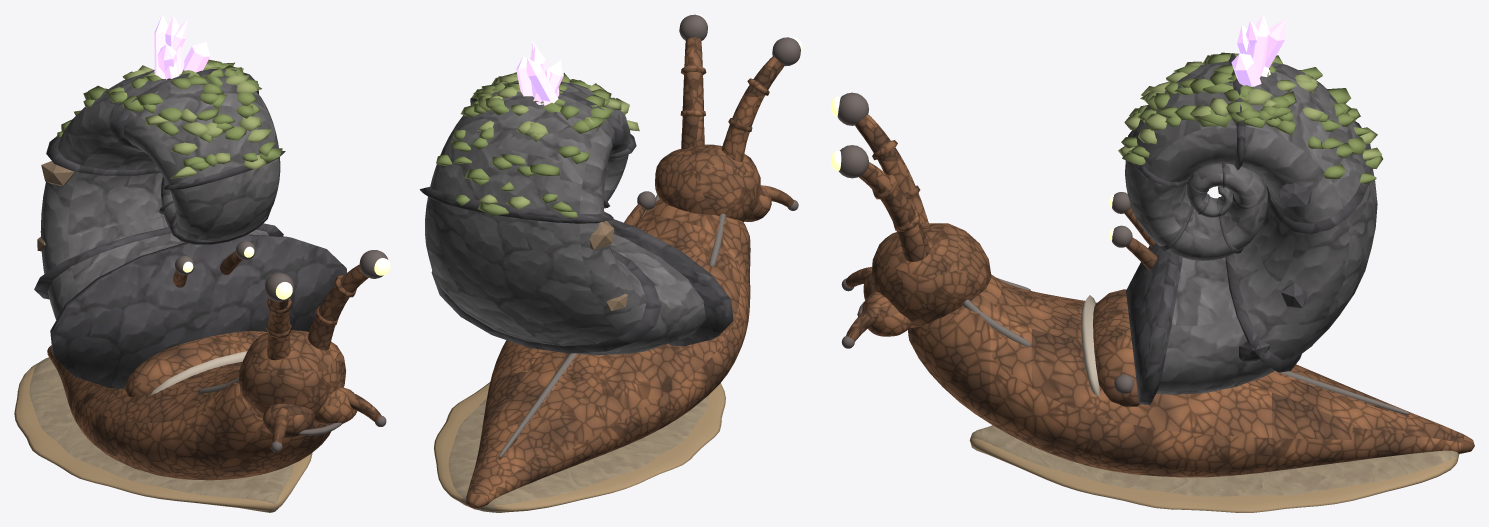
File: rock_snail_v2.glb
The picture shows the model from 3 angles, left to right: view 1: azimuth 30°, elevation 25°; view 2: azimuth 150°, elevation 25°; view 3: azimuth 270°, elevation 25°; orthographic projection. The views are drawn at different scales.
Parts seen in each view (by area): view 1: body, soft_body, soft_stalk_r, soft_stalk_l, peek; view 2: body, soft_body, soft_stalk_l, soft_stalk_r, peek; view 3: soft_body, body, soft_stalk_r, soft_stalk_l, peek.
Part boxes in pixels (bbox=[...]): body: bbox=[34, 14, 346, 388]; soft_body: bbox=[14, 330, 386, 512]; soft_stalk_r: bbox=[307, 250, 390, 350]; soft_stalk_l: bbox=[265, 273, 293, 360]; peek: bbox=[173, 241, 255, 287]; body: bbox=[420, 41, 733, 355]; soft_body: bbox=[434, 144, 798, 512]; soft_stalk_l: bbox=[721, 37, 802, 161]; soft_stalk_r: bbox=[679, 14, 707, 149]; peek: bbox=[624, 191, 656, 226]; soft_body: bbox=[841, 223, 1474, 512]; body: bbox=[1118, 14, 1382, 404]; soft_stalk_r: bbox=[831, 145, 929, 261]; soft_stalk_l: bbox=[831, 92, 928, 226]; peek: bbox=[1108, 192, 1157, 270].
Bounding box in the file's own units: 0.9271 × 1.28 × 1.61.
Materials: 13 (5 with a texture image).
